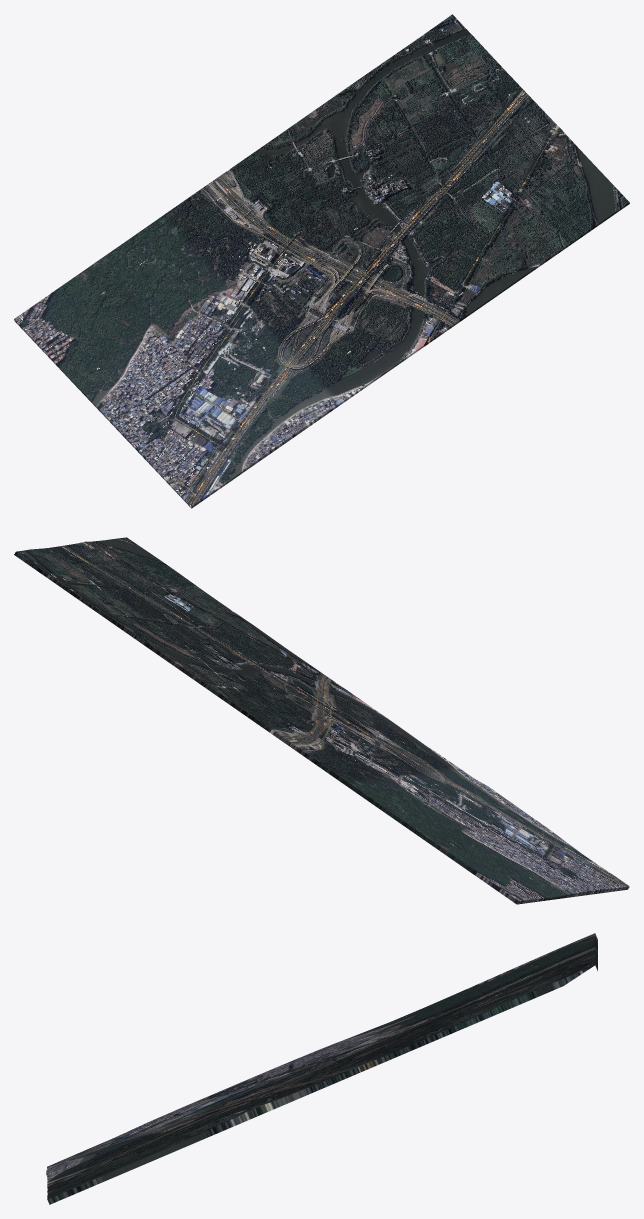
3 views of the same model, one above another, from view 1: azimuth 30°, elevation 25°; view 2: azimuth 150°, elevation 25°; view 3: azimuth 270°, elevation 25° (orthographic). The views are drawn at different scales.
Parts seen in each view (by area): view 1: 2_5_6; view 2: 2_5_6; view 3: 2_5_6.
Part boxes in pixels (x1,y1,x2,y2): 2_5_6: (14,14,629,508); 2_5_6: (14,537,629,904); 2_5_6: (46,933,597,1204).
Size of the model in its own units: 2261 by 1341 by 1127.
1 material, 1 textured.
